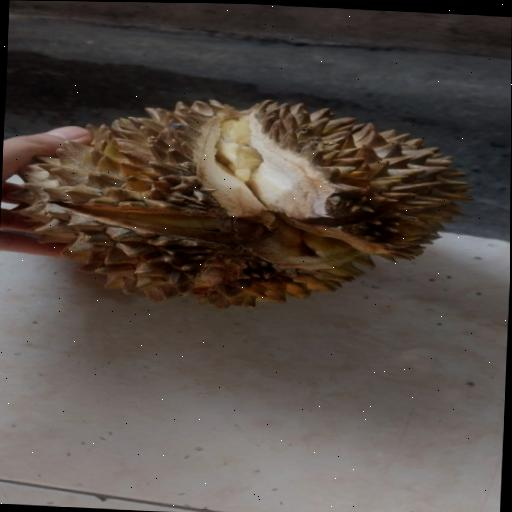rot: (0, 67, 512, 339)
